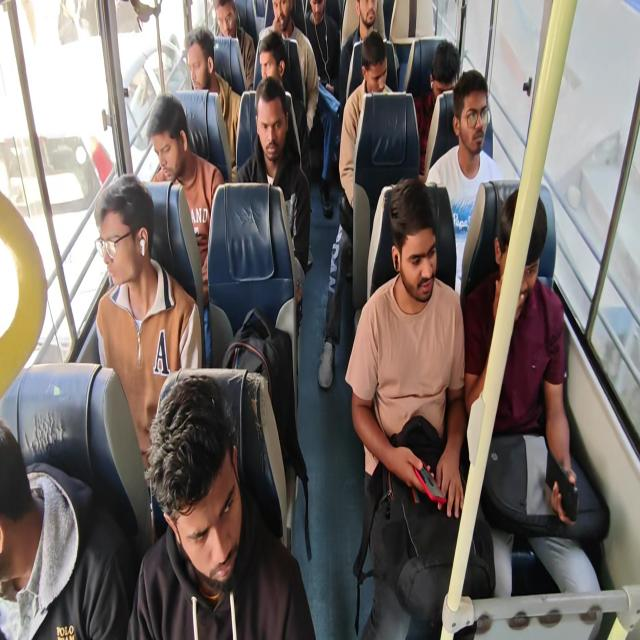person: (344, 176, 496, 638), (463, 187, 603, 620), (126, 372, 316, 638), (94, 173, 203, 495), (0, 419, 131, 639), (317, 30, 395, 389), (146, 93, 224, 365), (235, 76, 312, 325), (424, 69, 504, 296), (338, 30, 394, 220), (254, 30, 310, 186), (184, 27, 242, 170), (303, 0, 341, 218), (259, 0, 319, 135), (414, 40, 460, 174), (338, 1, 379, 121), (212, 0, 255, 91), (303, 0, 341, 95)
